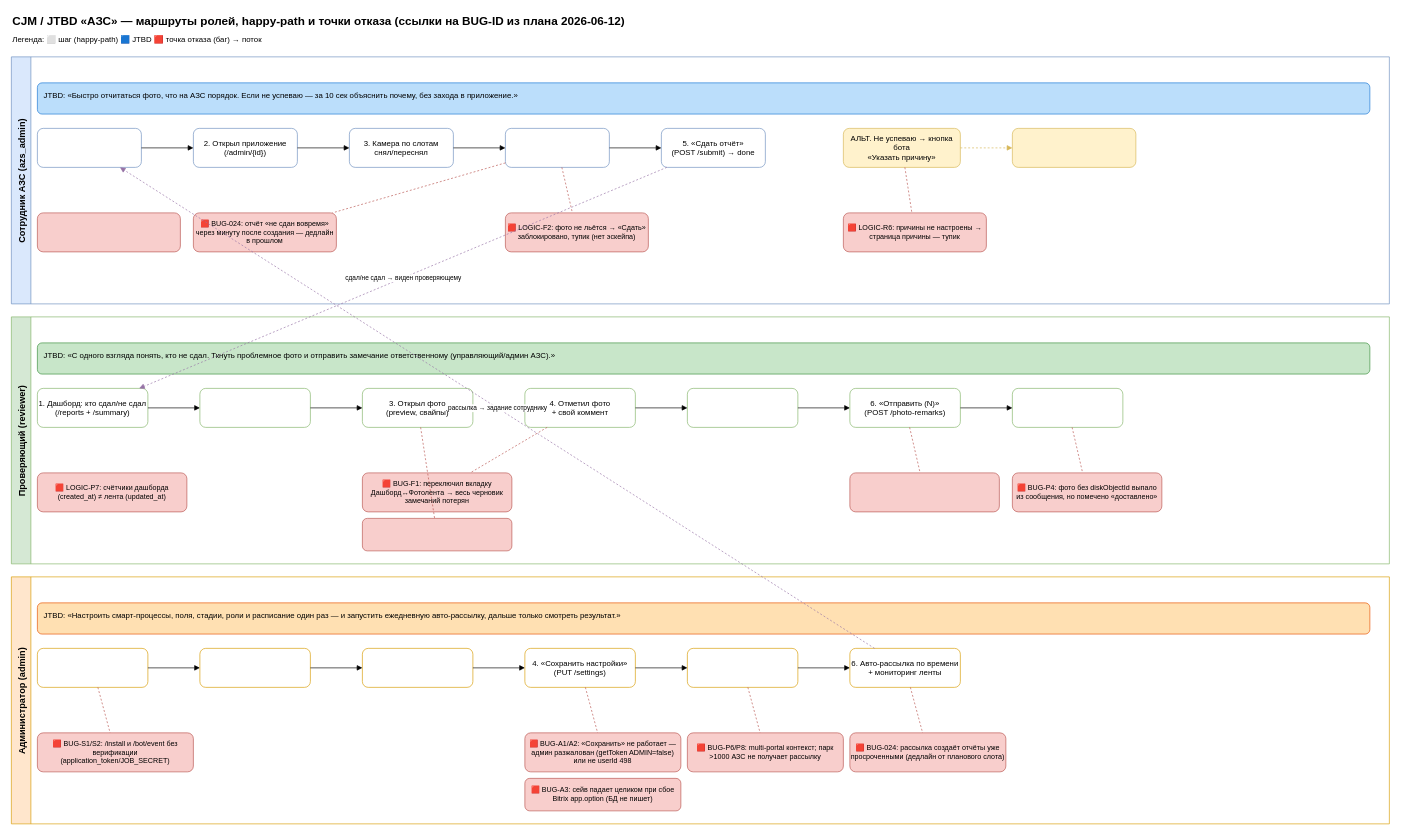
This 1401x835 diagram has some shape labels left out. Each missing label, with the centre of its shape:
"1. Бот прислал задание (push + кнопки)" belongs at point (89, 147).
"1. Открыл настройки (9 секций)" belongs at point (92, 667).
"2. Вкладка «Фотолента» (/photos/feed)" belongs at point (254, 407).
"2. Смарт-процессы, поля, стадии (вкл. «Брак»)" belongs at point (254, 667).
"3. Причины, роли, чат, расписание" belongs at point (417, 667).
"4. Фоновая загрузка фото (POST /photo)" belongs at point (557, 147).
"5. Выбрал получателя (/recipients)" belongs at point (742, 407).
"5. Сгенерировал план (POST /plan/generate)" belongs at point (742, 667).
"7. Журнал + повтор недоставленных" belongs at point (1067, 407).
"АЛЬТ. Выбрал причину кнопкой → «Принято» → CRM «Брак»" belongs at point (1074, 147).
"🟥 BUG-P2: превью вечно 502 (webhook пуст + токен протух)" belongs at point (437, 534).
"🟥 LOGIC-F3: ошибка отправки в лайтбоксе невидима (тост под оверлеем)" belongs at point (924, 492).
"🟥 LOGIC-F6: потерял роль → застрял на экране ожидания, нет навигации" belongs at point (108, 232).
